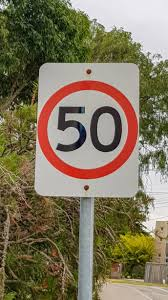sp50: (40, 83, 143, 177)
